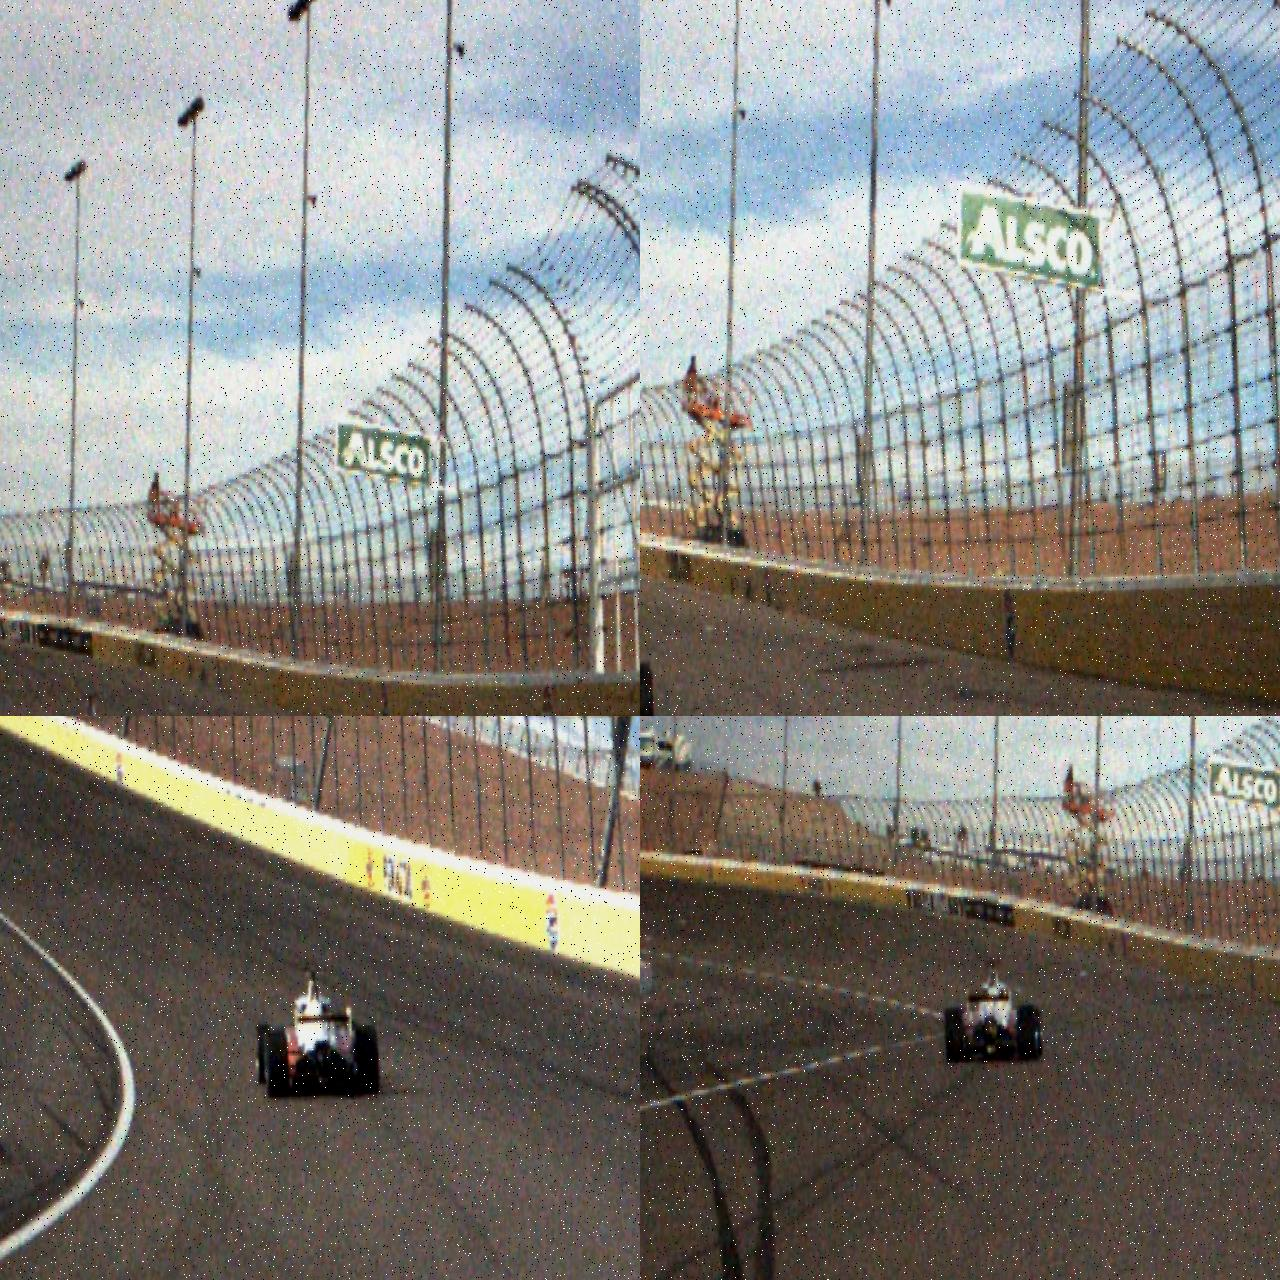AV: (252, 961, 380, 1099), (941, 955, 1043, 1064), (40, 692, 137, 716)
Wheel: (355, 1023, 379, 1096), (265, 1029, 288, 1099), (944, 1006, 965, 1064), (1016, 1003, 1037, 1062), (254, 1022, 272, 1084), (640, 663, 654, 716), (1030, 1007, 1043, 1057)
